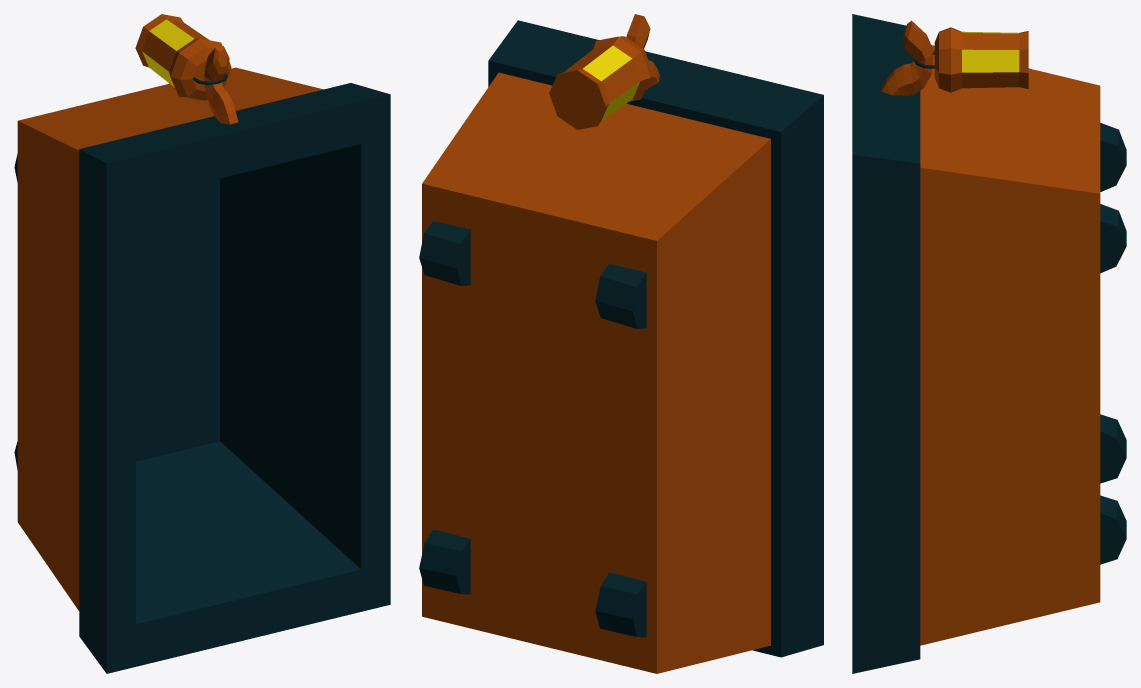
Rendered from Trolley.fbx.
3 views of the same model, side by side, from view 1: azimuth 30°, elevation 25°; view 2: azimuth 150°, elevation 25°; view 3: azimuth 270°, elevation 25° (orthographic). The views are drawn at different scales.
Parts seen in each view (by area): view 1: Cube, Cylinder; view 2: Cube, Cylinder; view 3: Cube, Cylinder.
Boxes of the visible parts, x1,y1,x2,y2 form: Cube: (14, 46, 390, 673); Cylinder: (135, 14, 231, 100); Cube: (419, 14, 823, 673); Cylinder: (549, 36, 652, 129); Cube: (852, 14, 1126, 673); Cylinder: (914, 27, 1028, 92).
Bounding box in the file's own units: 200 × 385 × 164.
